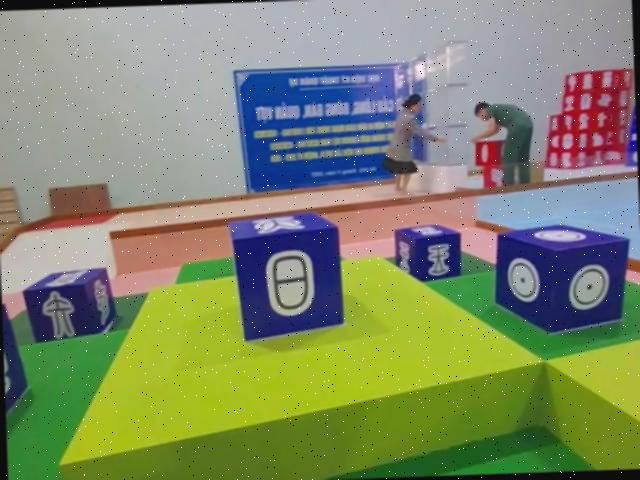R2 Fake Blue: (230, 211, 346, 344), (23, 269, 117, 345), (395, 223, 463, 283)
R2 Real Blue: (492, 222, 633, 338), (2, 302, 33, 455)
